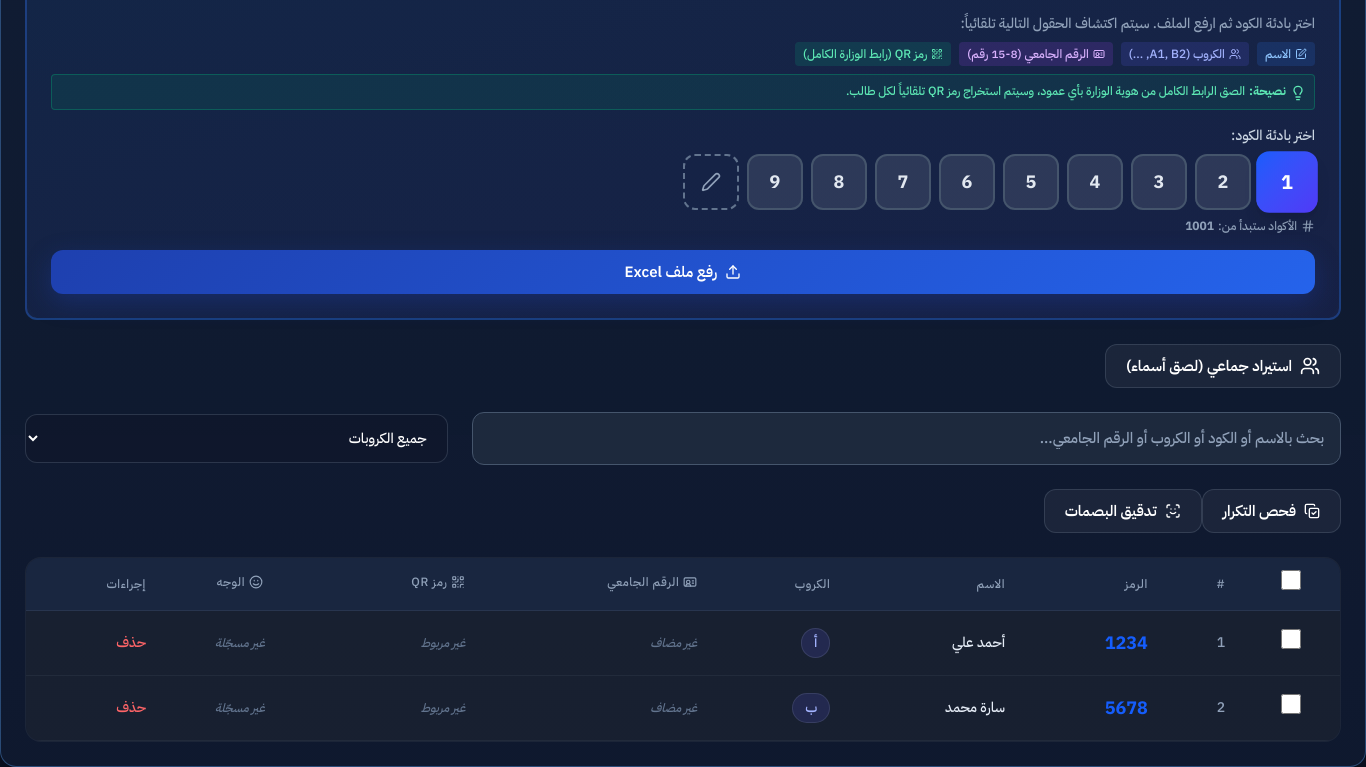
StudentManager › search filters student list
The width and height of the screenshot is (1366, 767).
(page scrolled)
In the field with placeholder "بحث بالاسم أو الكود أو الكروب أو الرقم الجامعي...": (906, 438) top-left (472, 412), bottom-right (1341, 465), type "أحمد"
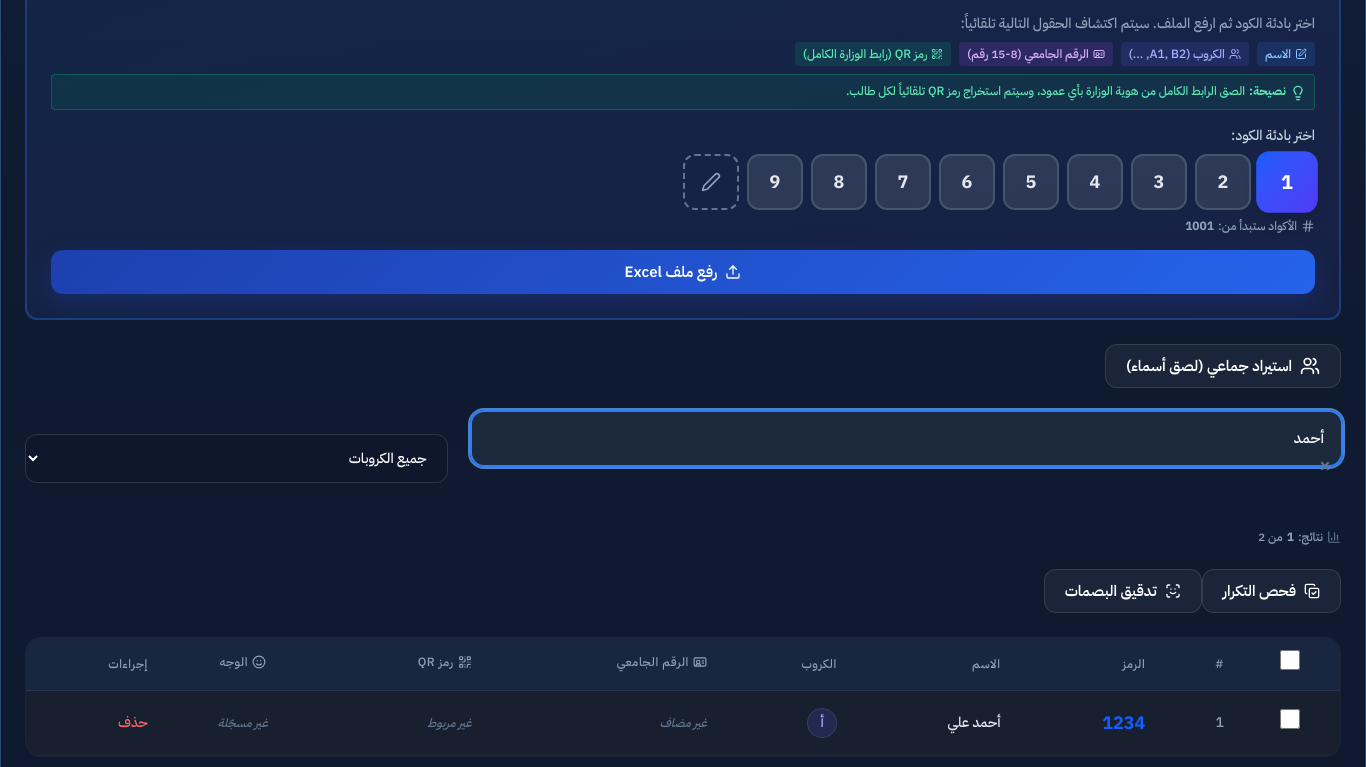
Check: the text "أحمد علي" is shown, box top-left (948, 710), bottom-right (1000, 735)
Check: the text "سارة محمد" is gone
